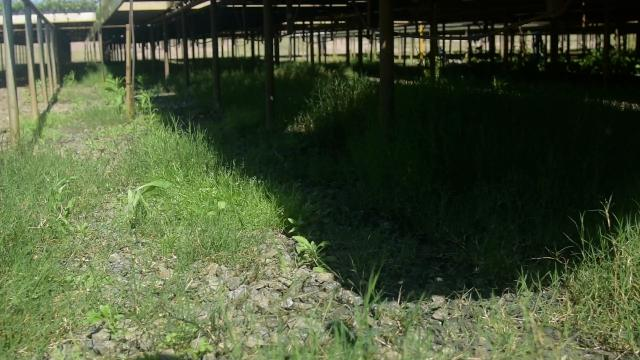MalezaMontesDelPlata: (108, 138, 252, 258), (0, 159, 70, 337)
